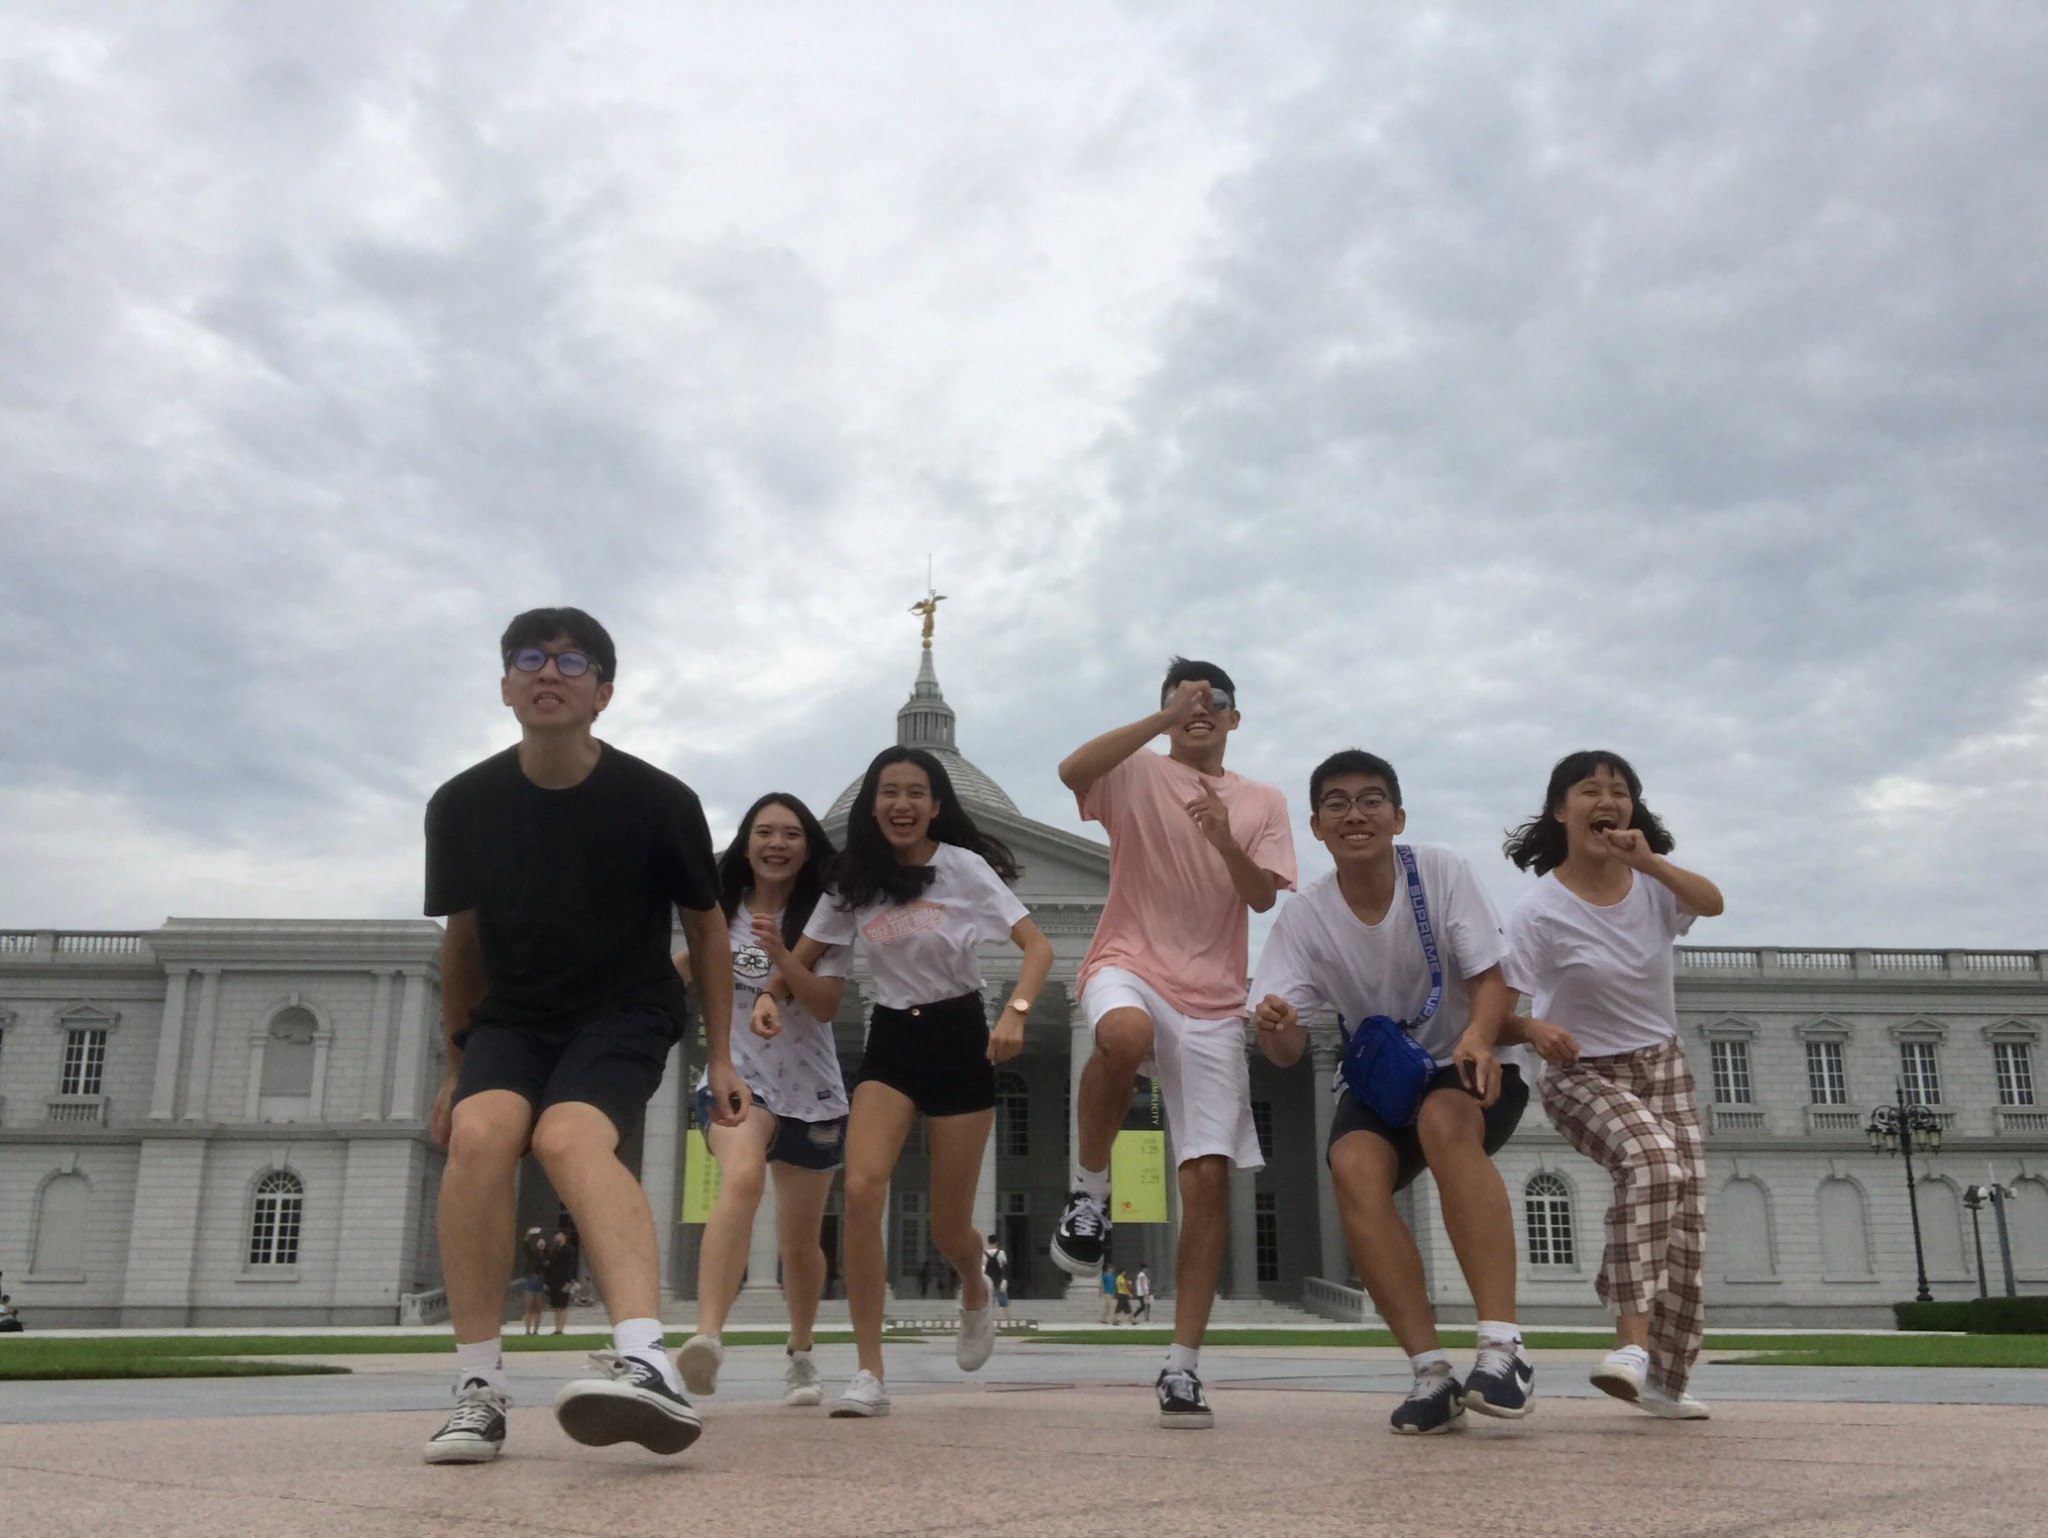people: (440, 614, 690, 1470), (1281, 744, 1516, 1479), (1507, 747, 1728, 1438), (1096, 659, 1254, 1461), (828, 747, 1010, 1417), (713, 791, 828, 1409)
